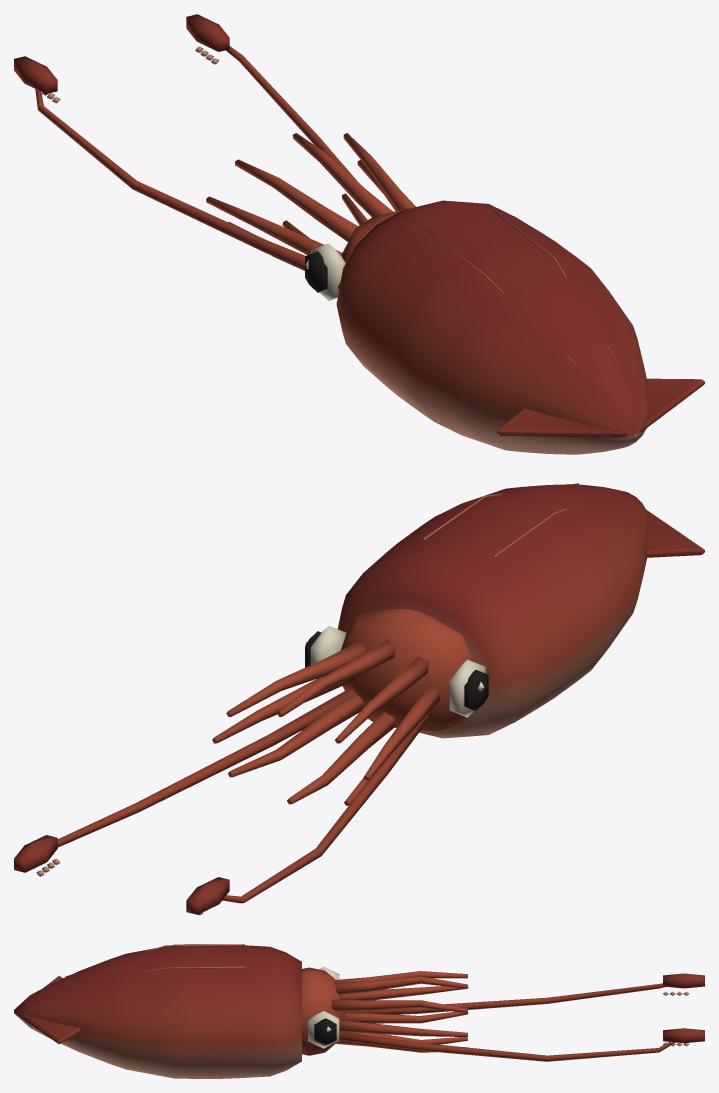
Rendered from fish_giant_squid.glb.
3 views of the same model, one above another, from view 1: azimuth 30°, elevation 25°; view 2: azimuth 150°, elevation 25°; view 3: azimuth 270°, elevation 25° (orthographic). The views are drawn at different scales.
Size of the model in its own units: 0.3608 by 0.2957 by 1.6.
